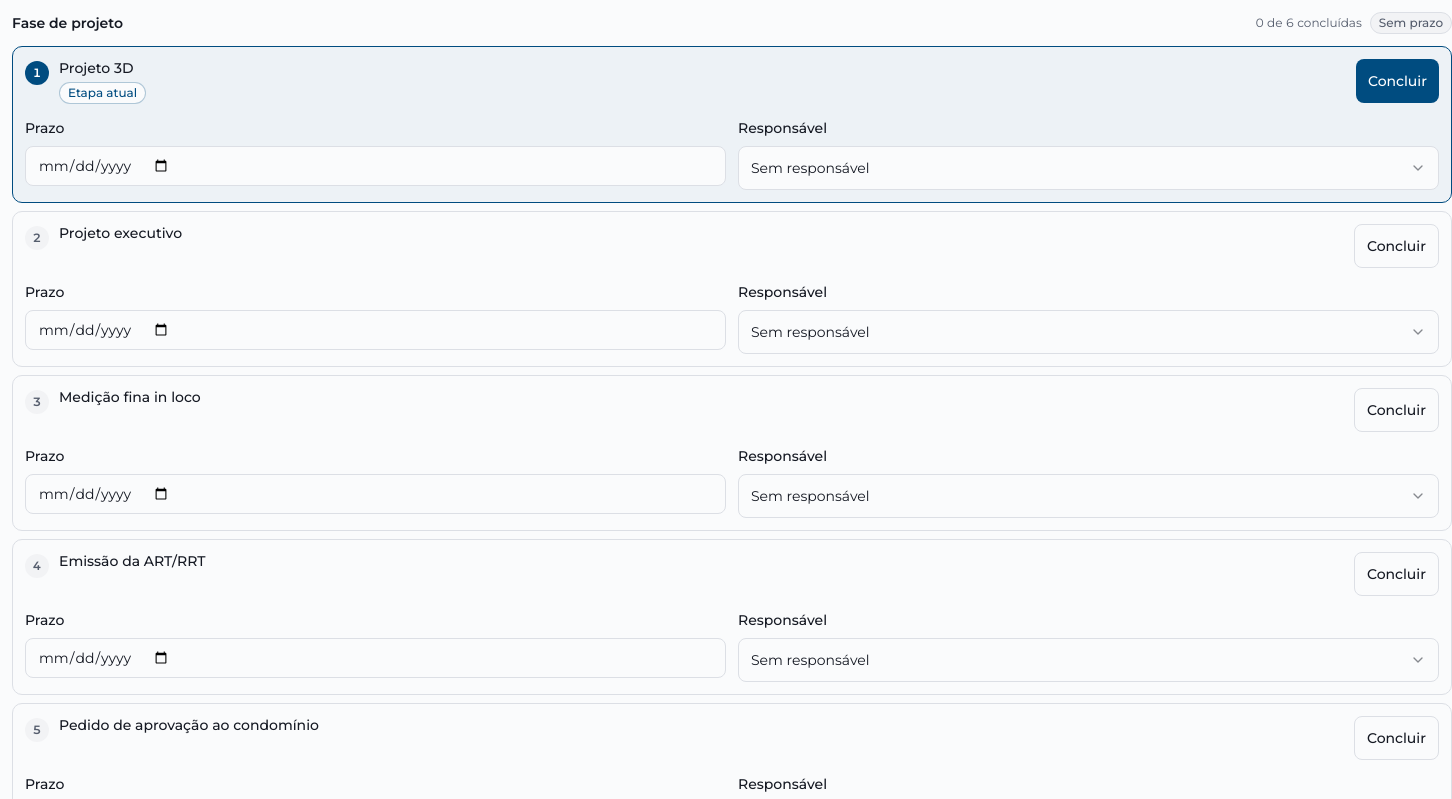
Test case: Fase de projeto: concluir e reabrir › concluir usa a data de hoje por padrão
Later steps or results of the test are not shown.
Click the button "Concluir" in the row of "Etapa atual" at (1398, 81), box 1356,59 -> 1439,103
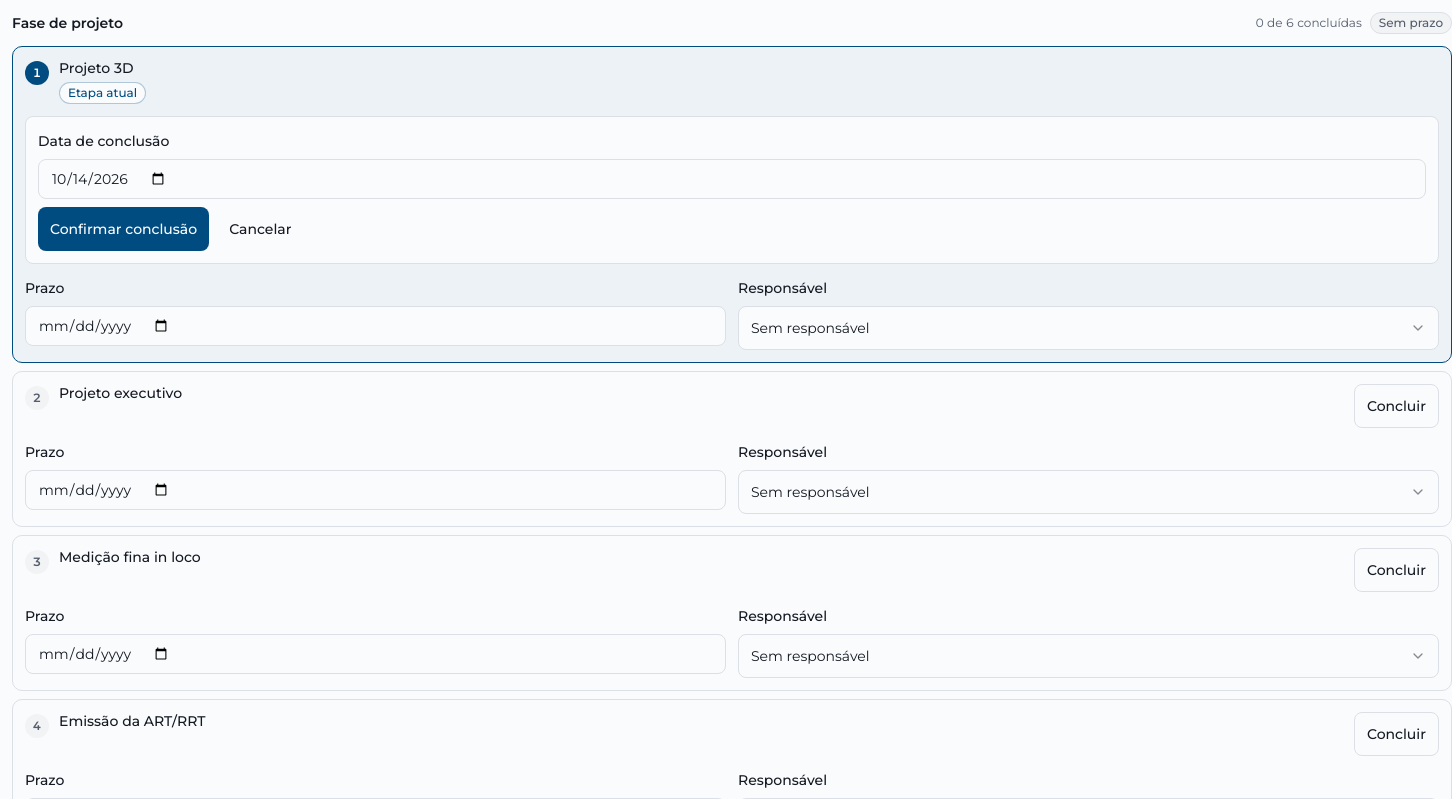
Expected: the date field labelled "Data de conclusão" holds "2026-10-14", 38,159 -> 1426,199
